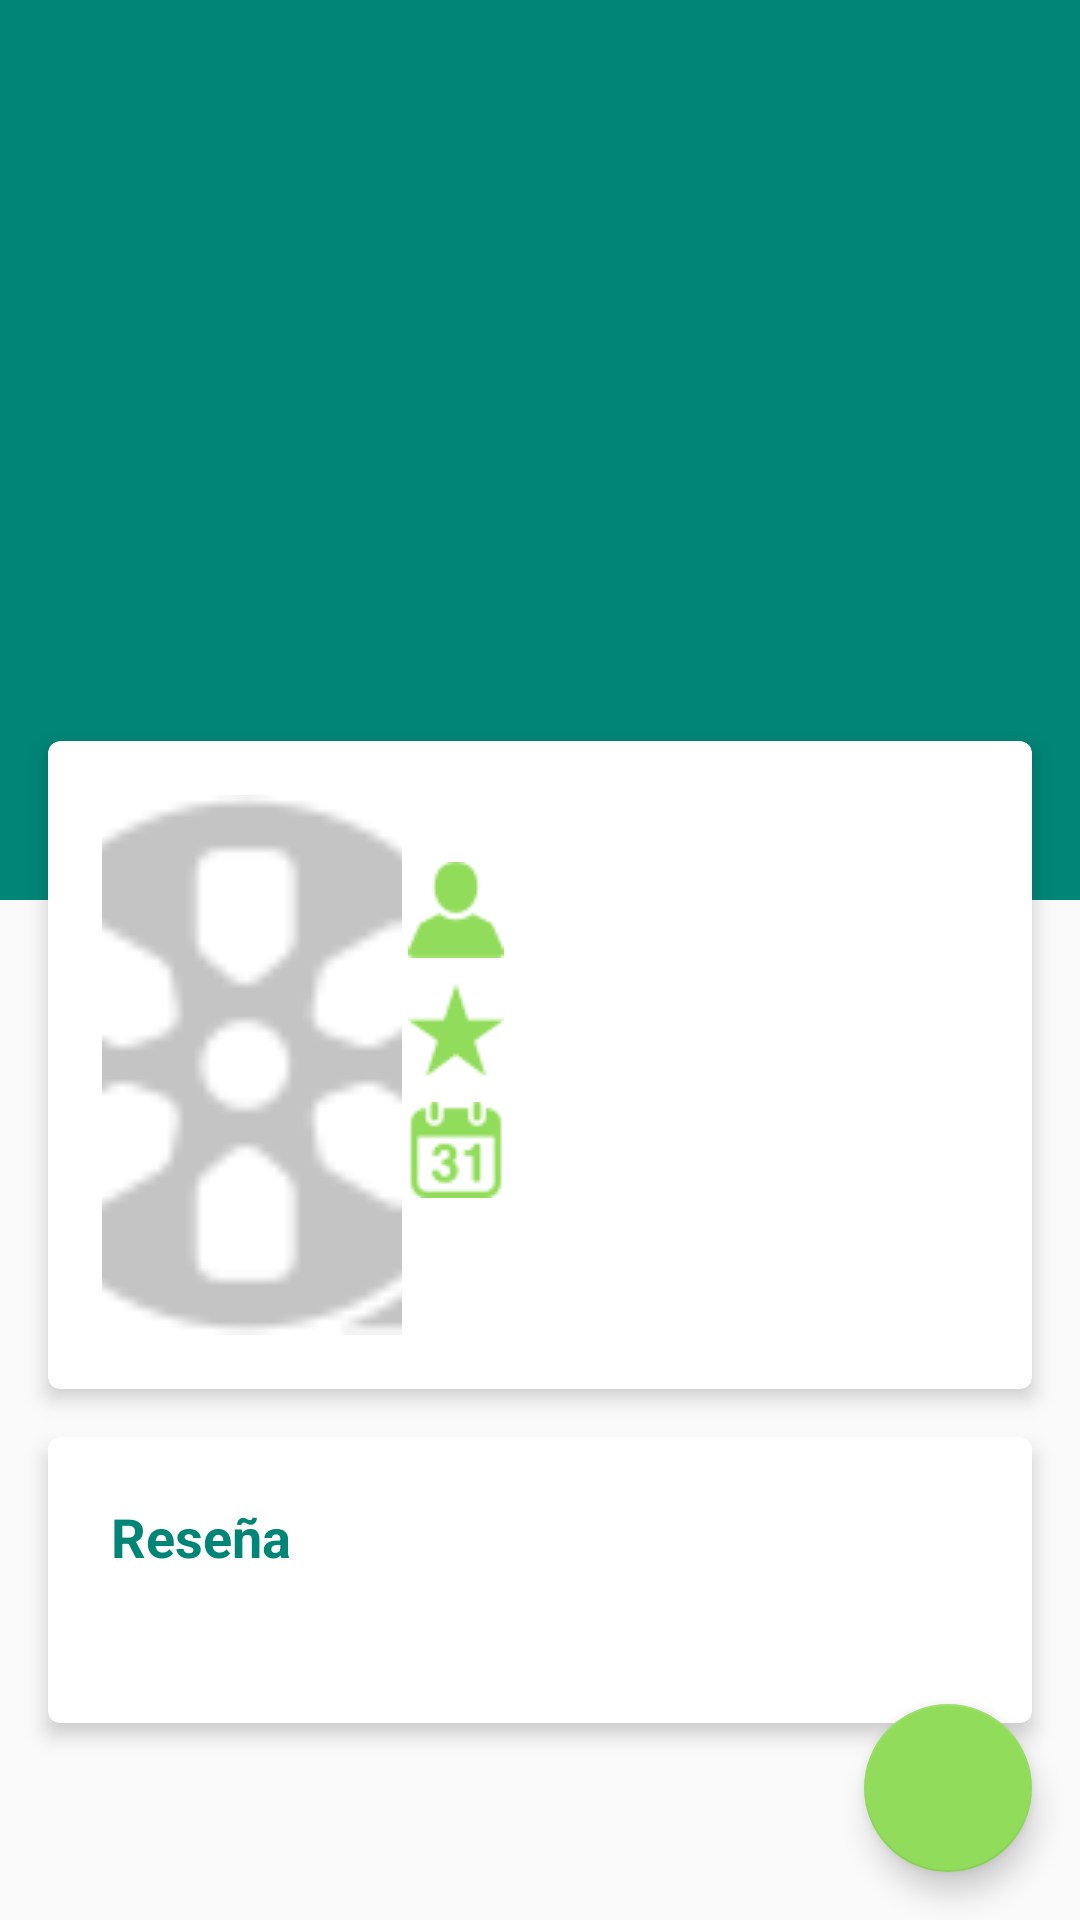

Icons on this 1080x1920 Android screen, each with its box as (x1, y1, x2, y2):
calendar: (410, 1102, 502, 1198)
star: (408, 985, 504, 1076)
user: (408, 862, 504, 958)
